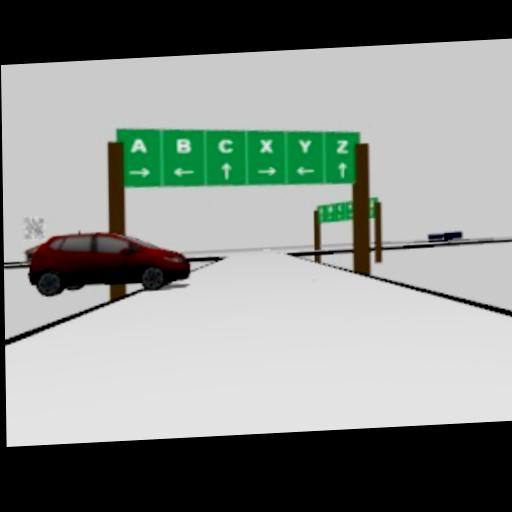A: (130, 137, 149, 155)
B: (175, 138, 192, 155)
C: (218, 138, 235, 155)
Left: (172, 166, 196, 177), (295, 164, 315, 176)
Right: (128, 165, 152, 179), (256, 165, 276, 176)
Straight: (219, 160, 232, 181), (338, 162, 348, 179)
X: (259, 138, 274, 155)
Y: (298, 137, 313, 153)
Z: (335, 139, 350, 156)
